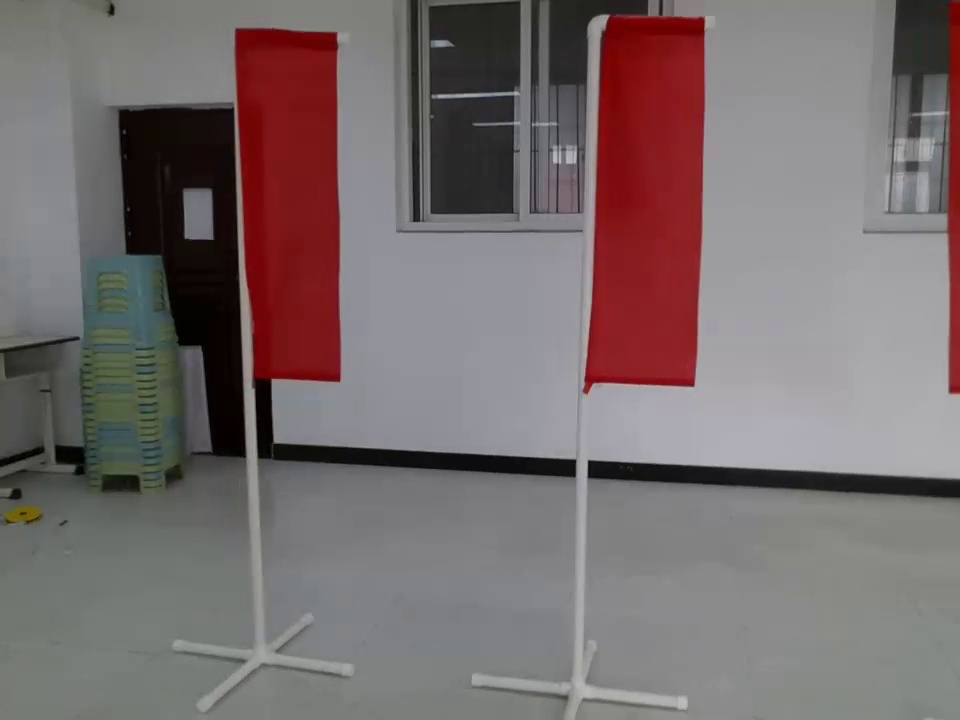qi: (566, 9, 717, 397), (225, 8, 344, 415)
